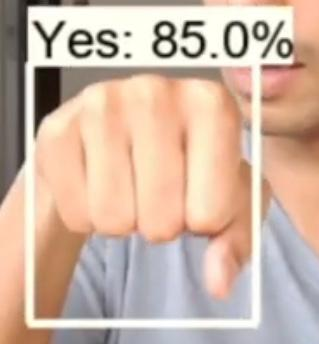Yes: (0, 70, 277, 344)
